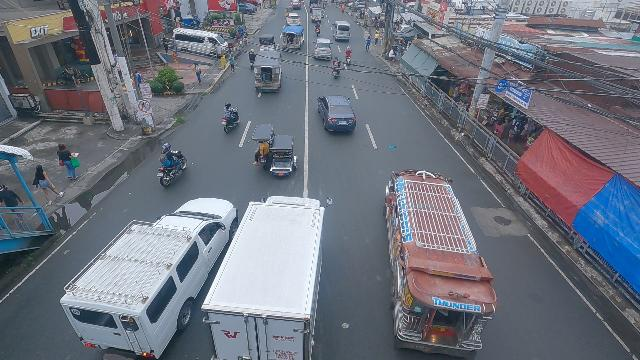car: (317, 96, 355, 132)
jeepney: (380, 168, 499, 354), (281, 25, 304, 51), (310, 7, 323, 24), (285, 4, 299, 15)
motorcycle: (157, 144, 191, 188), (219, 103, 240, 134), (331, 56, 340, 80), (344, 47, 352, 65), (315, 20, 321, 37)
truck: (201, 195, 328, 360)
van: (62, 194, 241, 360), (172, 27, 230, 60), (252, 49, 283, 93), (312, 37, 333, 60), (333, 21, 352, 41), (285, 12, 301, 27), (290, 0, 301, 9)
